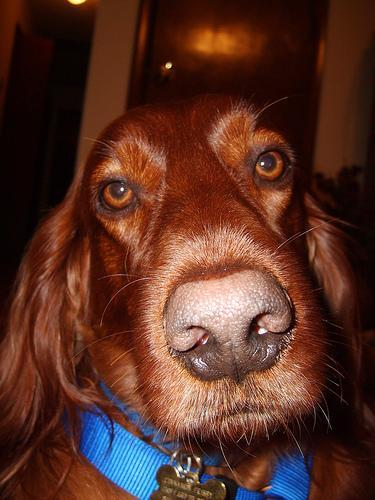Irish_setter: (0, 87, 373, 498)
